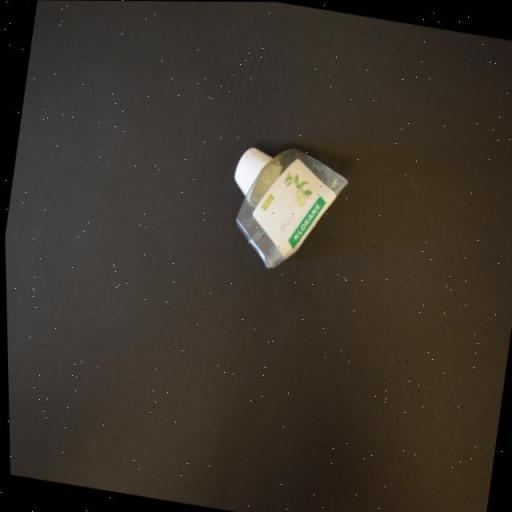plastic: (218, 137, 356, 281)
